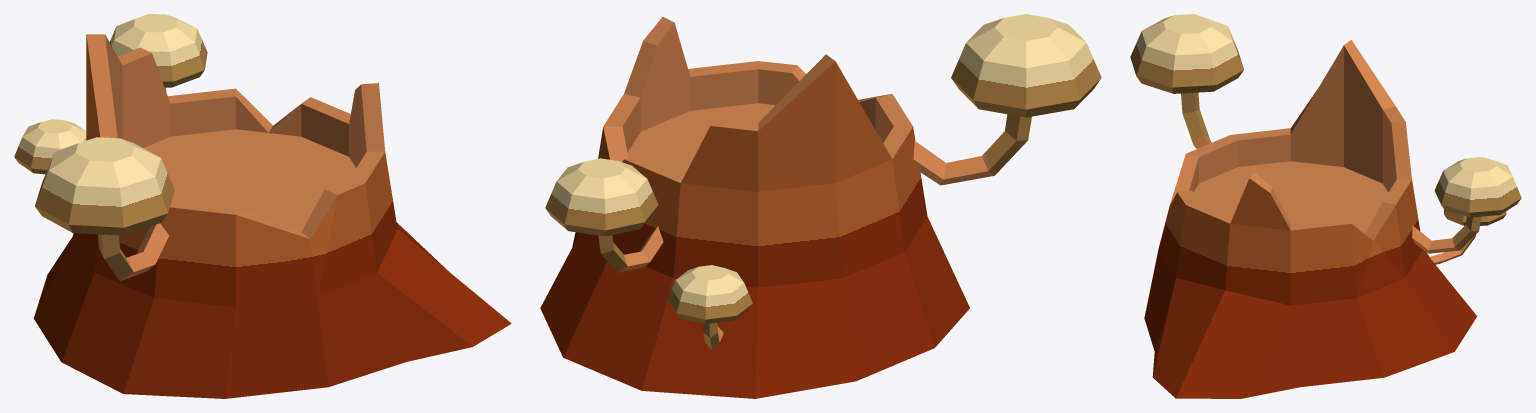
The model's file is TreeTrunk.glb.
3 renders of one model, left to right at view 1: azimuth 30°, elevation 25°; view 2: azimuth 150°, elevation 25°; view 3: azimuth 270°, elevation 25°, orthographic. The views are drawn at different scales.
Visible parts, largest first — view 1: Tree.075; view 2: Tree.075; view 3: Tree.075.
Part boxes in pixels (bbox=[...]): Tree.075: bbox=[14, 14, 511, 398]; Tree.075: bbox=[540, 14, 1101, 398]; Tree.075: bbox=[1130, 14, 1521, 398].
Size of the model in its own units: 0.993 by 0.5912 by 0.8987.
1 material, 1 textured.
